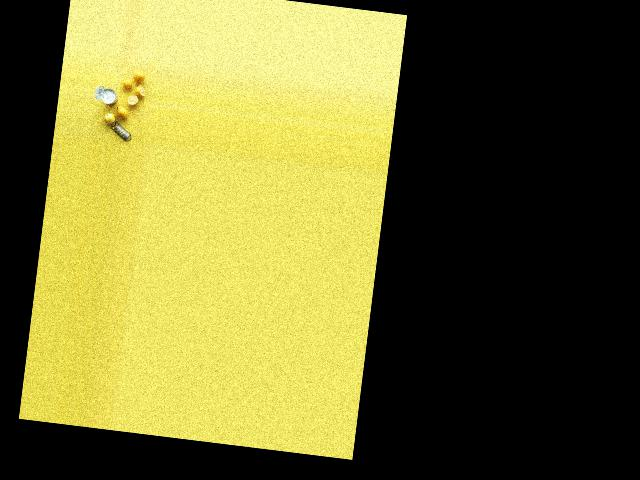lemon: (102, 110, 118, 123)
